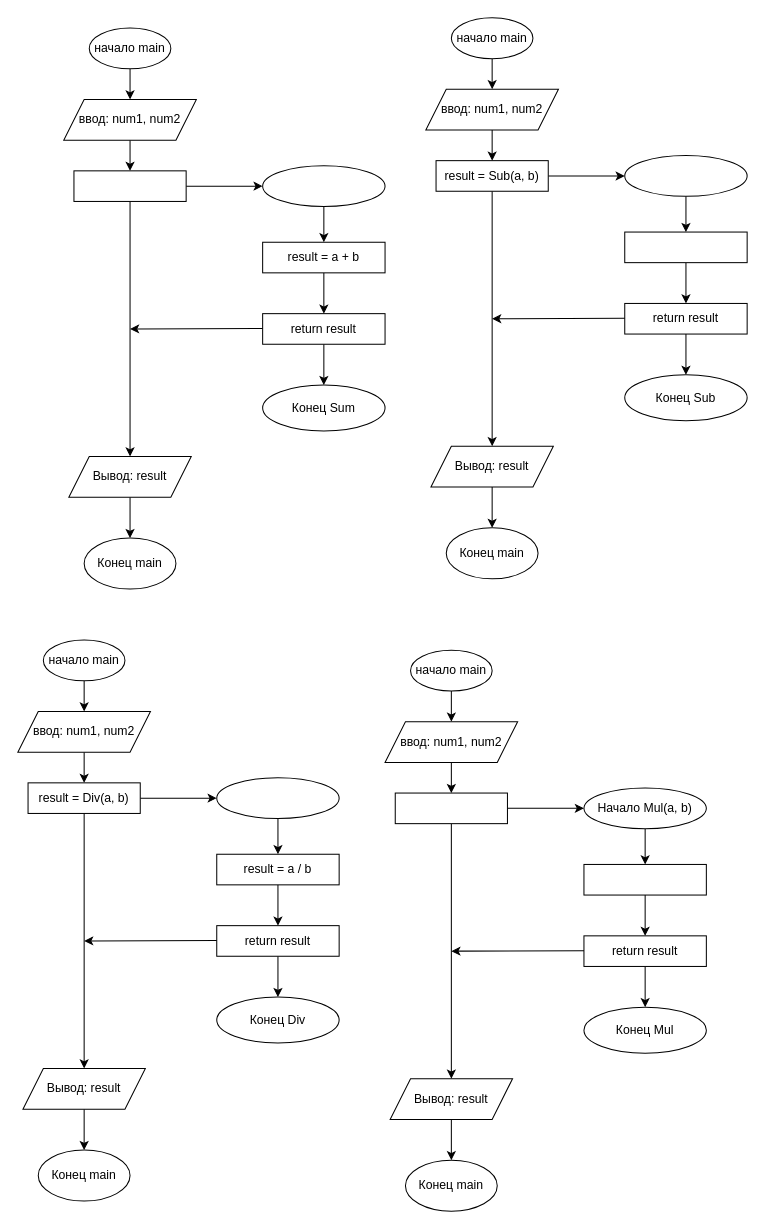
The diagram is 765 pixels wide and 1229 high, and some of its shapes have lost their labels. The box of each missing label's shape, as (x1, y1, x2, y2) in pixels:
result = a * b: (583, 863, 706, 895)
result = a - b: (624, 231, 747, 263)
result = Mul(a, b): (394, 792, 507, 824)
result = Sum(a, b): (73, 170, 186, 201)
Начало Div(a, b): (216, 777, 339, 819)
Начало Sub(a, b): (624, 155, 747, 196)
Начало Sum(a, b): (262, 165, 385, 207)
